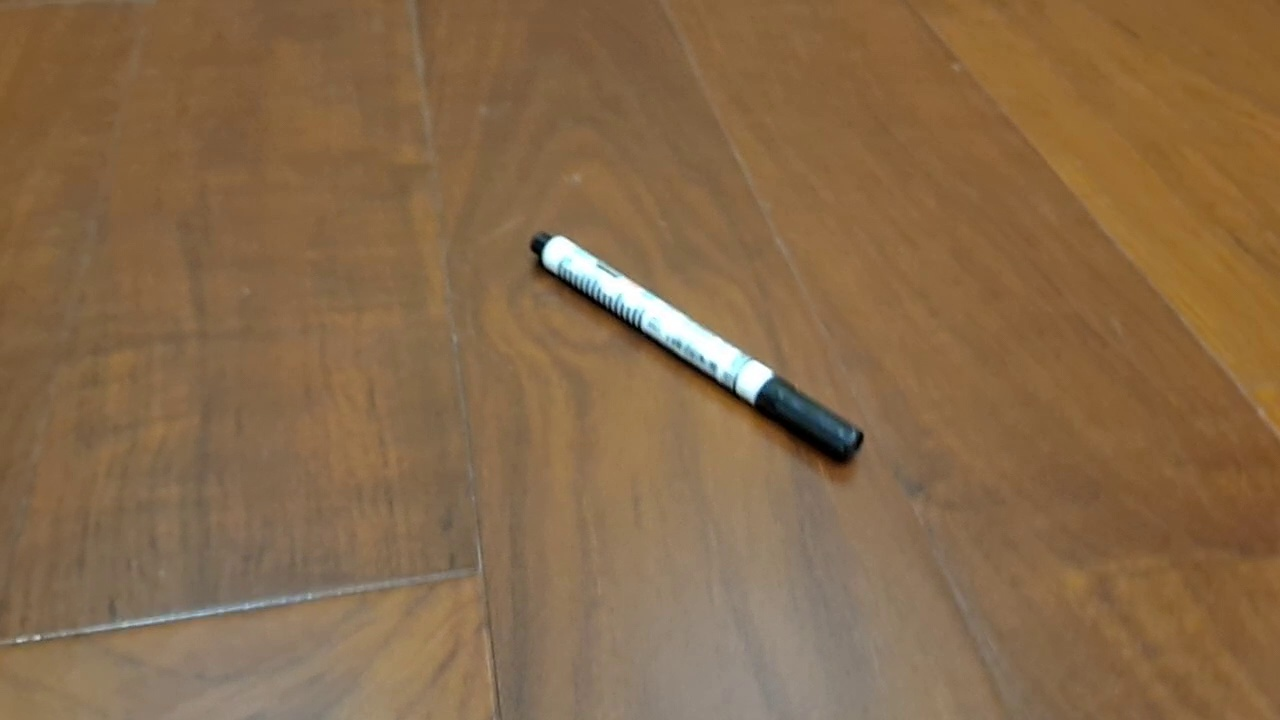pen: (529, 231, 864, 464)
